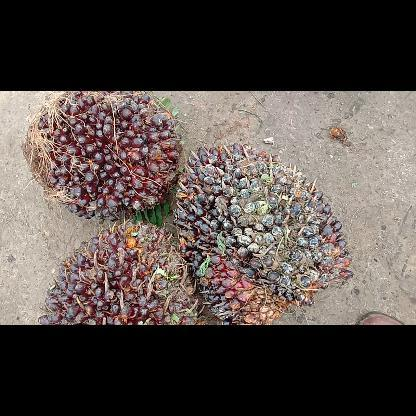Kurang masak: (22, 90, 178, 220), (40, 223, 196, 323)
TBS mentah: (176, 144, 352, 324)
